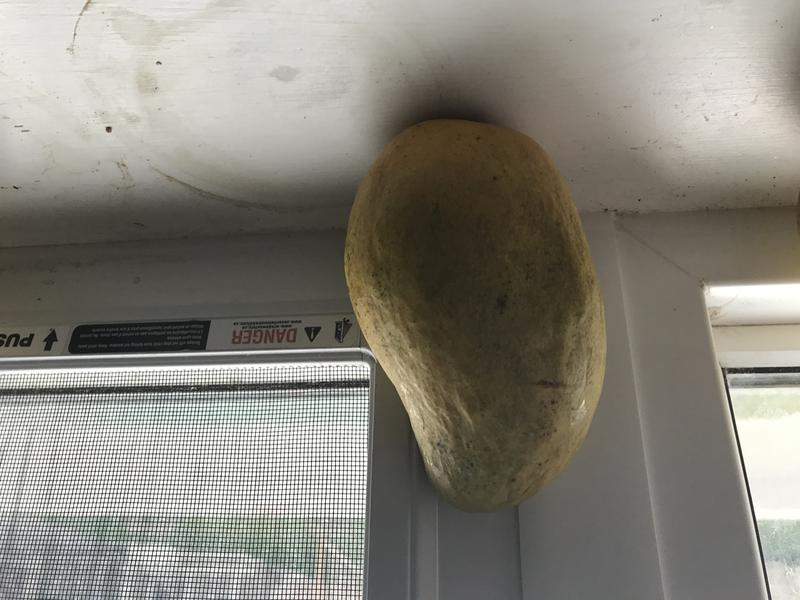mango: (339, 112, 617, 518)
